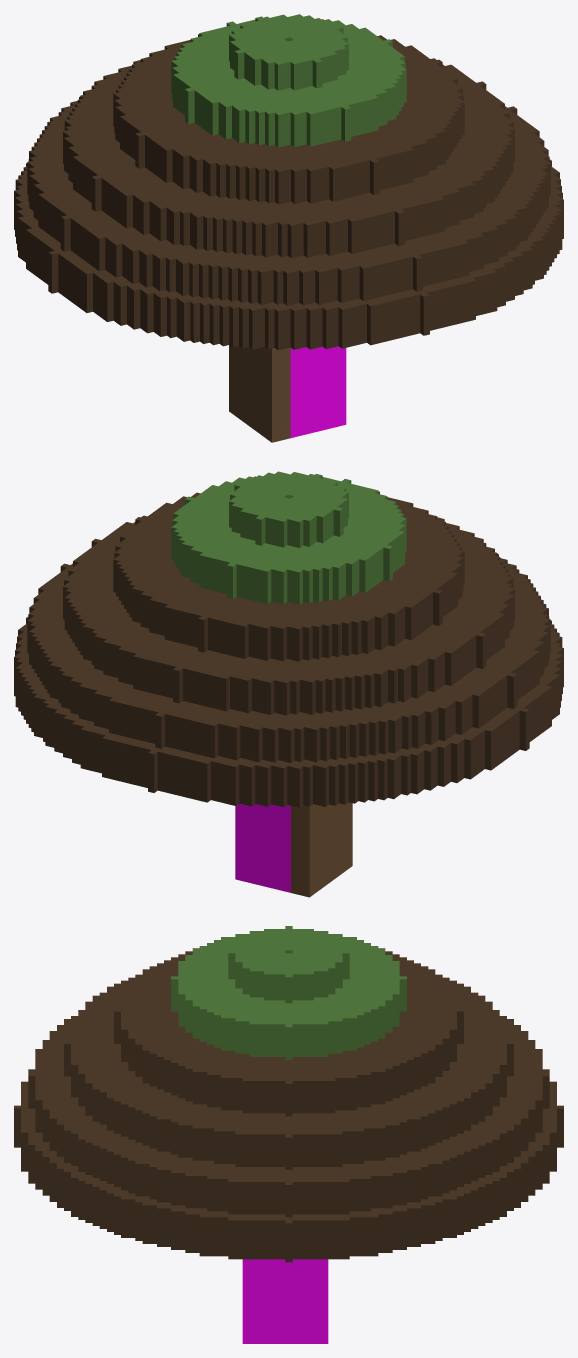
The model's file is arbol_saman.obj.
3 renders of one model, top to bottom at view 1: azimuth 30°, elevation 25°; view 2: azimuth 150°, elevation 25°; view 3: azimuth 270°, elevation 25°, orthographic.
Size of the model in its own units: 7.7 by 5.8 by 7.7.
